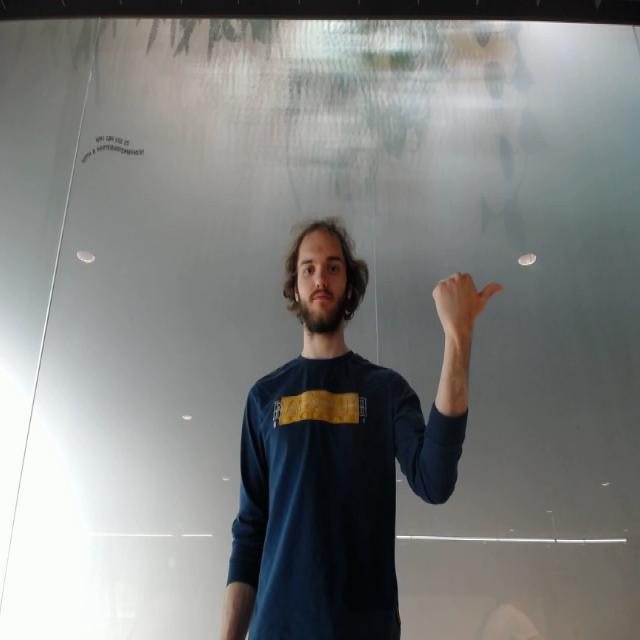right: (426, 265, 509, 341)
